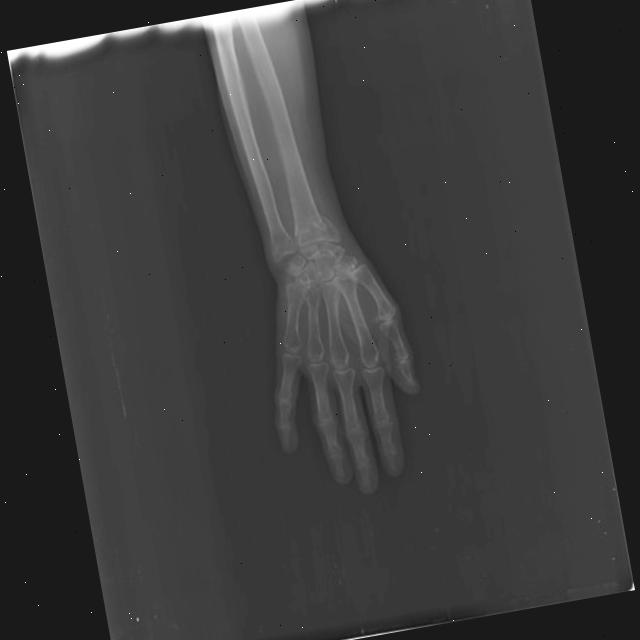Fracture: (289, 212, 342, 246)
